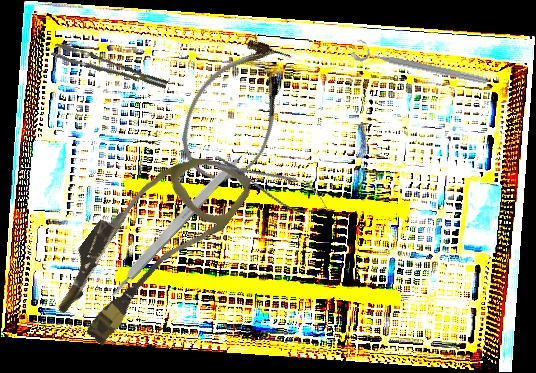Cannula: (40, 122, 257, 362), (163, 24, 311, 196)
Fixation Ring: (349, 36, 491, 89)
Micro Scissor: (207, 145, 334, 223)
Scalpel Handle: (105, 150, 246, 299)
Tissue Forceps: (50, 31, 169, 105)
